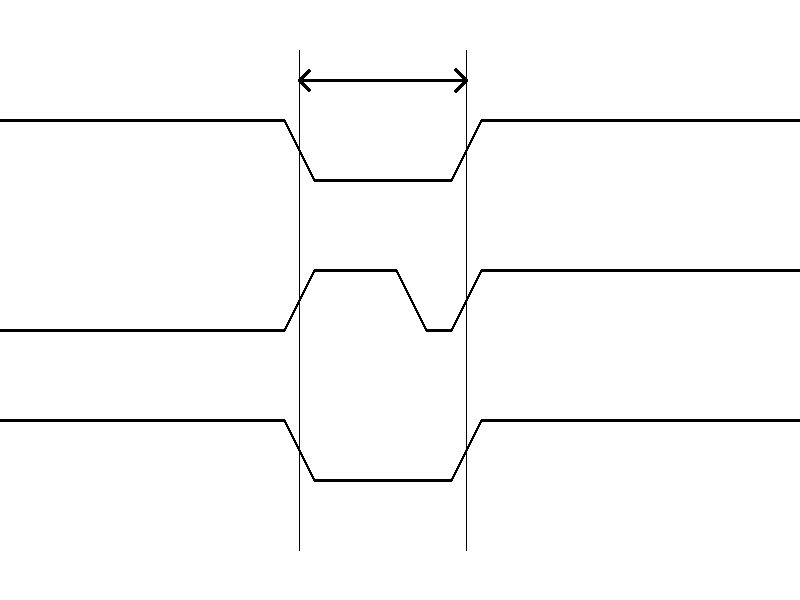double_arrow: (299, 65, 466, 95)
